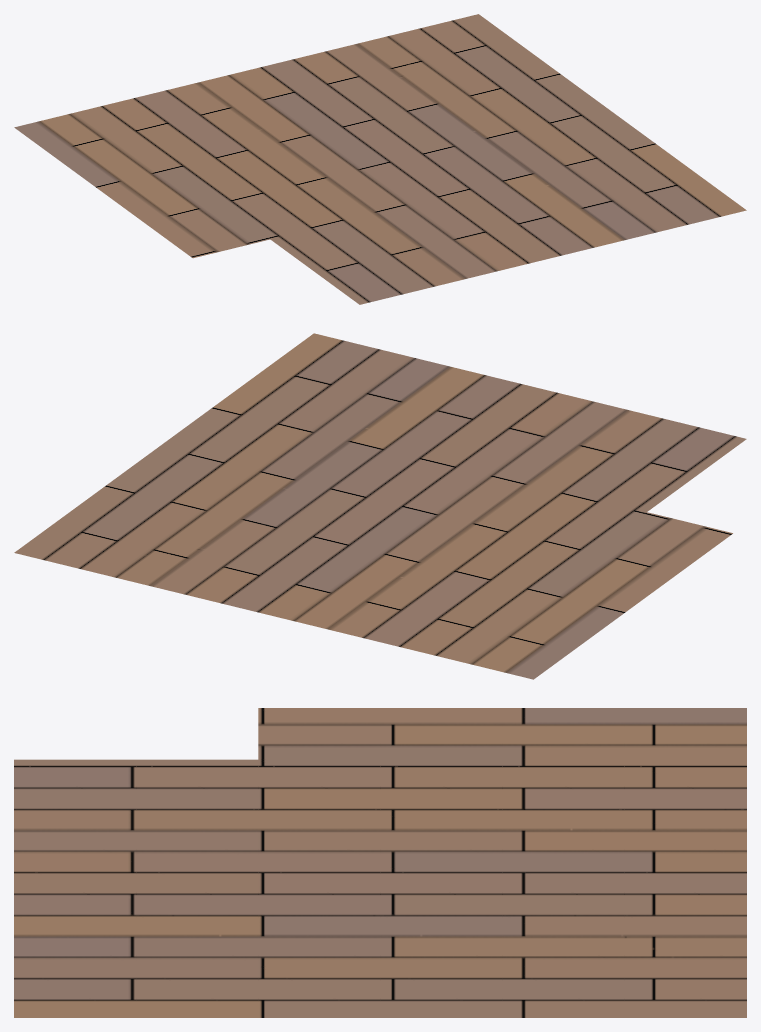
The model's file is N03_Piso_Sala.fbx.
3 renders of one model, top to bottom at view 1: azimuth 30°, elevation 25°; view 2: azimuth 150°, elevation 25°; view 3: azimuth 270°, elevation 25°, orthographic. The views are drawn at different scales.
Visible parts, largest first — view 1: N03_Piso_Sala; view 2: N03_Piso_Sala; view 3: N03_Piso_Sala.
Boxes of the visible parts, box(x1,y1,x2,y2) form: N03_Piso_Sala: box(14, 14, 746, 304); N03_Piso_Sala: box(14, 333, 746, 679); N03_Piso_Sala: box(14, 708, 746, 1017).
Bounding box in the file's own units: 600 × 9.78e-05 × 600.
Materials: 1 (1 with a texture image).
